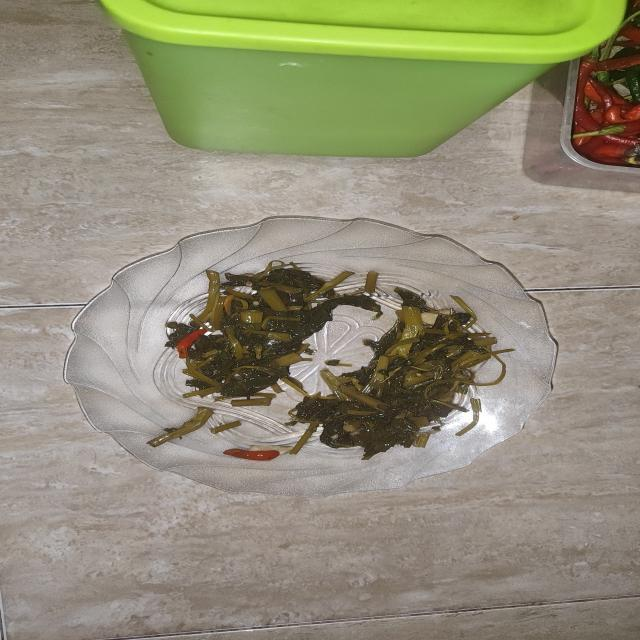tumis_kangkung: (294, 305, 514, 459), (166, 261, 382, 406)
